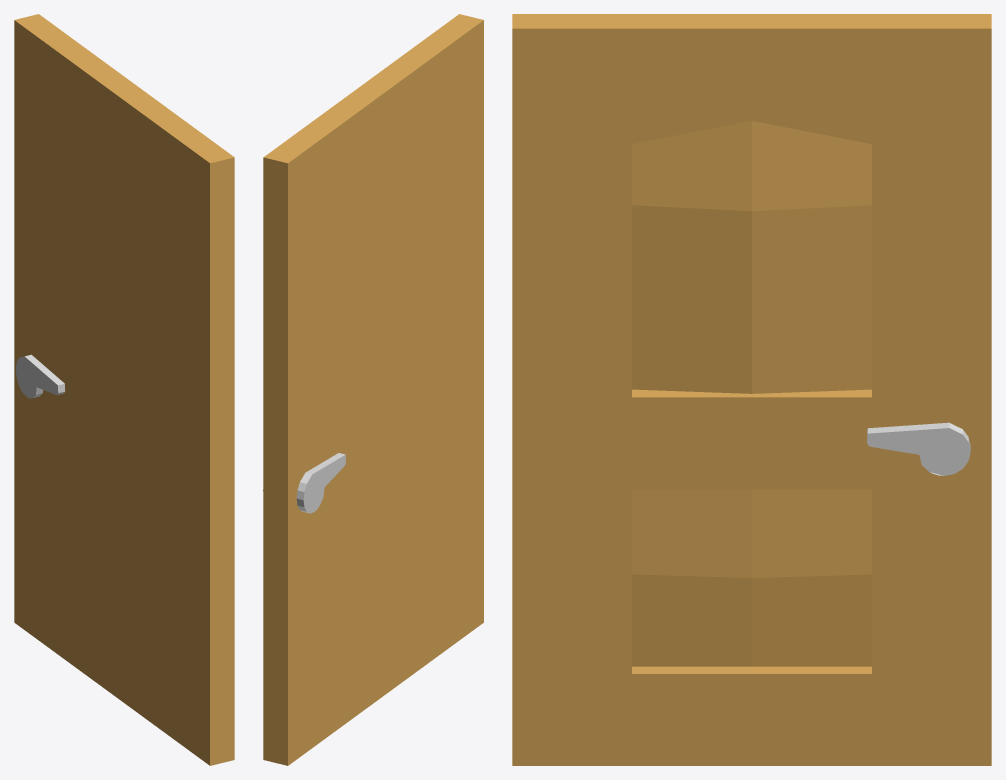
Rendered from door.fbx.
The picture shows the model from 3 angles, left to right: view 1: azimuth 30°, elevation 25°; view 2: azimuth 150°, elevation 25°; view 3: azimuth 270°, elevation 25°; orthographic projection. The views are drawn at different scales.
Visible parts, largest first — view 1: Cube.001, Cylinder; view 2: Cube.001, Cylinder; view 3: Cube.001, Cylinder.
Boxes of the visible parts, bbox=[...] form: Cube.001: bbox=[14, 14, 234, 765]; Cylinder: bbox=[16, 354, 65, 398]; Cube.001: bbox=[263, 14, 483, 765]; Cylinder: bbox=[263, 453, 345, 513]; Cube.001: bbox=[512, 14, 991, 765]; Cylinder: bbox=[867, 422, 970, 475].
Bounding box in the file's own units: 178 × 2533 × 1493.
